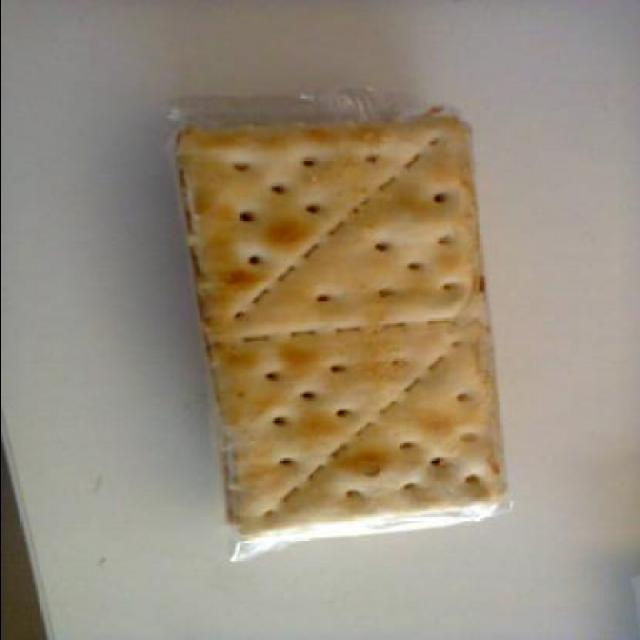Cracker: (162, 89, 520, 583)
